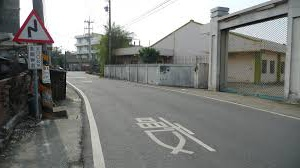Double_bend_right: (13, 8, 54, 45)
